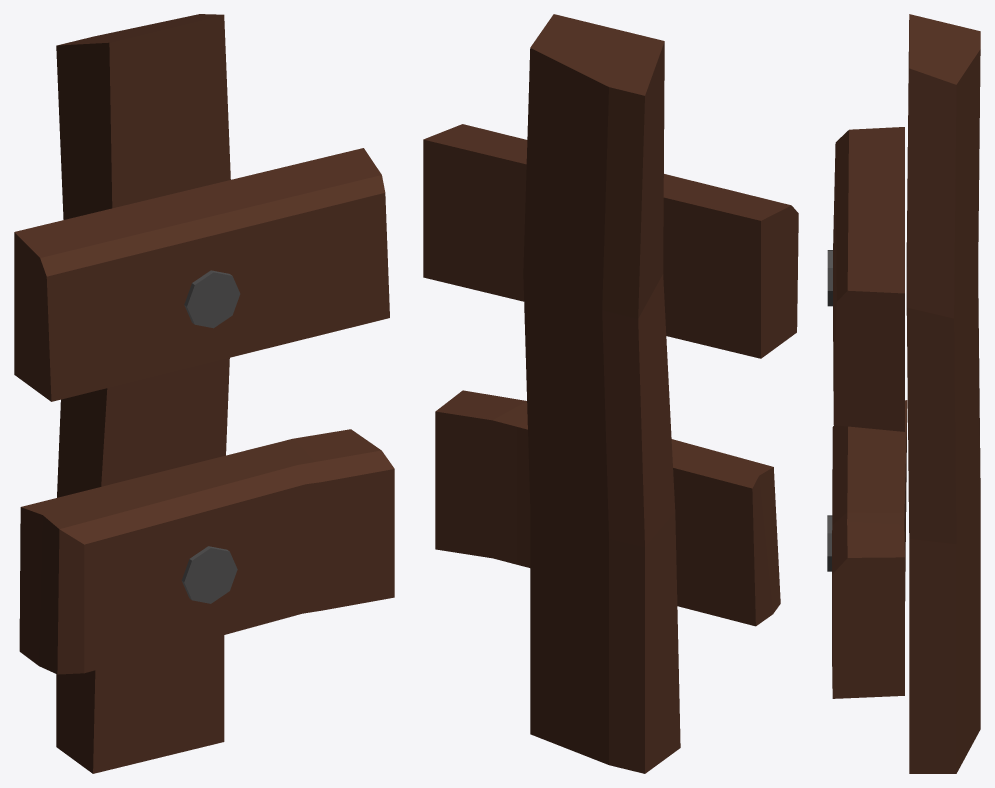
File: fence3.fbx
3 renders of one model, left to right at view 1: azimuth 30°, elevation 25°; view 2: azimuth 150°, elevation 25°; view 3: azimuth 270°, elevation 25°, orthographic. The views are drawn at different scales.
Parts seen in each view (by area): view 1: Fence.002; view 2: Fence.002; view 3: Fence.002.
Part boxes in pixels (box(x1,y1,x2,y2)): Fence.002: box(14, 14, 394, 773); Fence.002: box(423, 14, 798, 773); Fence.002: box(827, 14, 980, 773).
Size of the model in its own units: 253 by 499 by 98.15.
